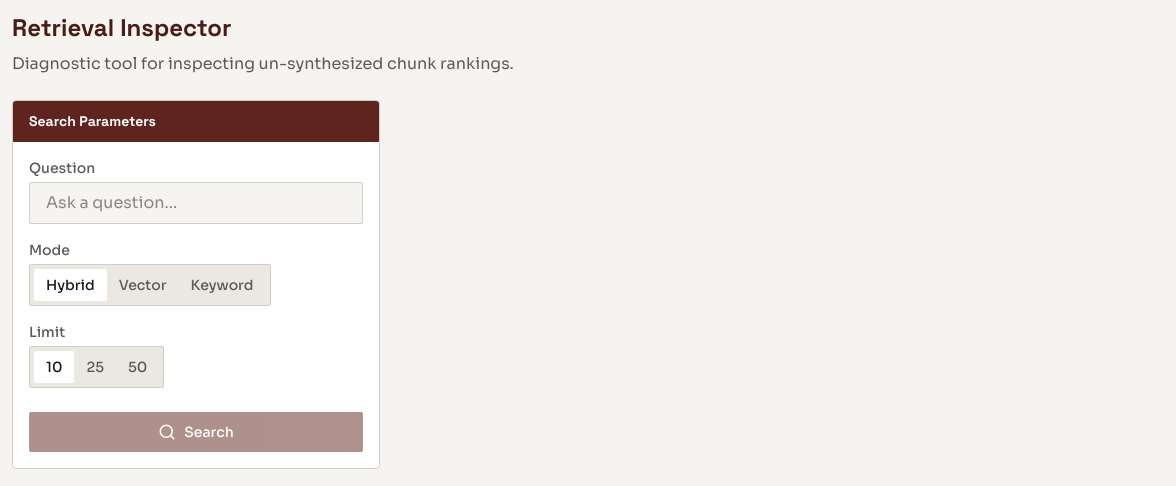
Test: SearchPage › keyword mode renders ts_rank order and cos —, and never marks a row
Click the radio button labelled "Keyword" at (222, 285), box [179,269,266,301]
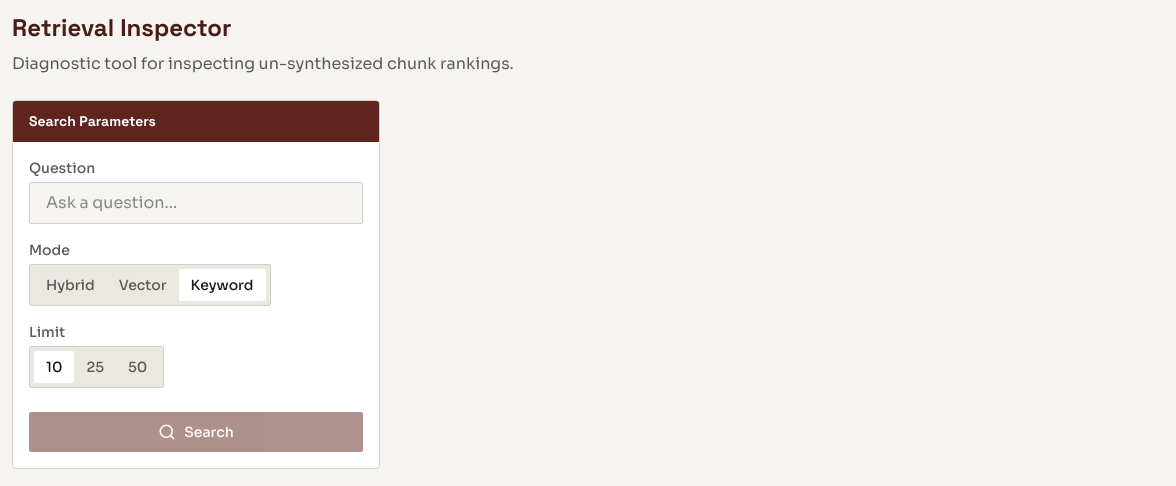
Type "test" into the field with placeholder "Ask a question..." at (196, 203), box [29,182,363,224]
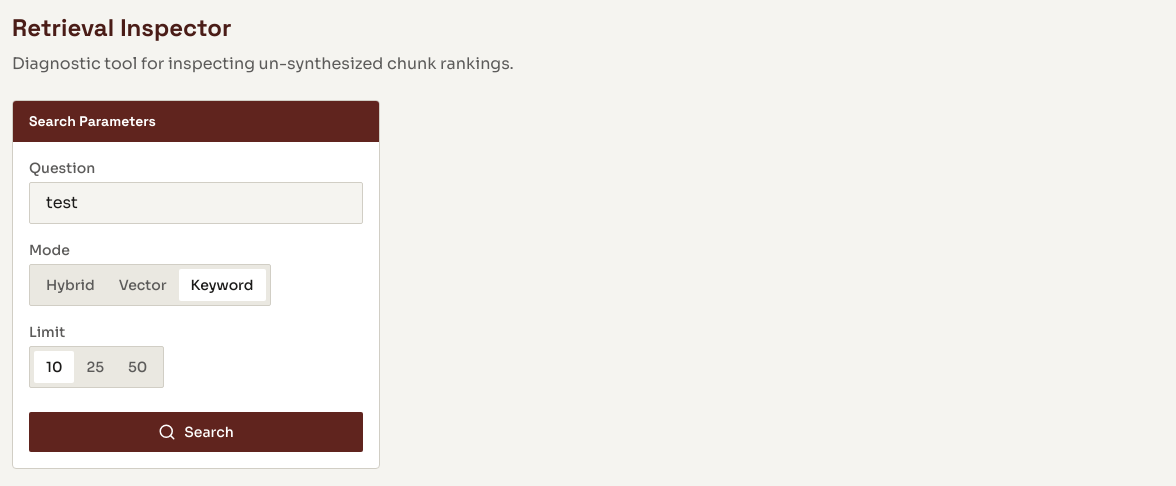
Click the button "Search" at (196, 432), box [29,412,363,452]
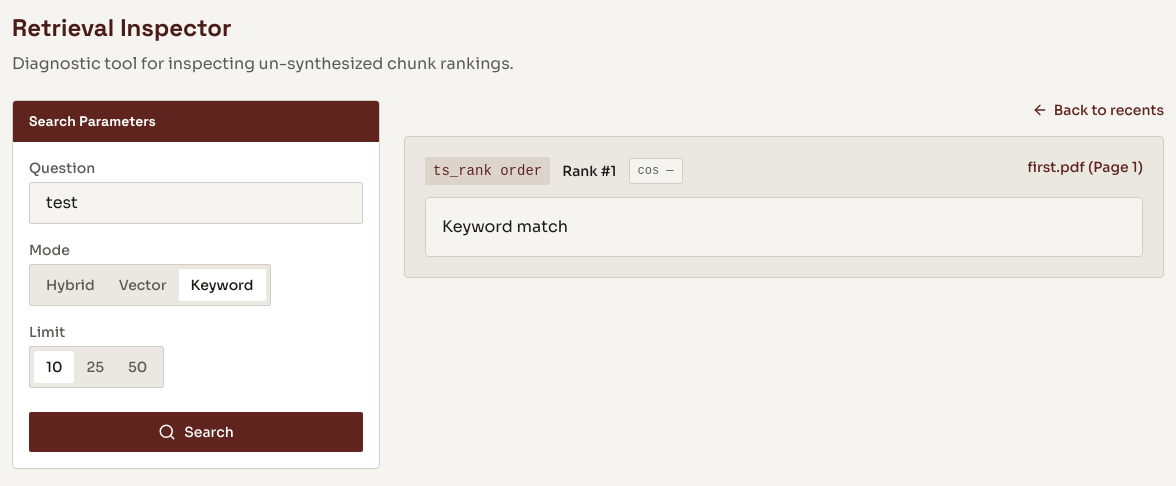
Check: the text "Keyword match" is shown, box [442,216,568,237]
Check: the text "ts_rank order" is shown, box [425,157,550,185]
Check: the text "cos —" is shown, box [628,158,682,184]
